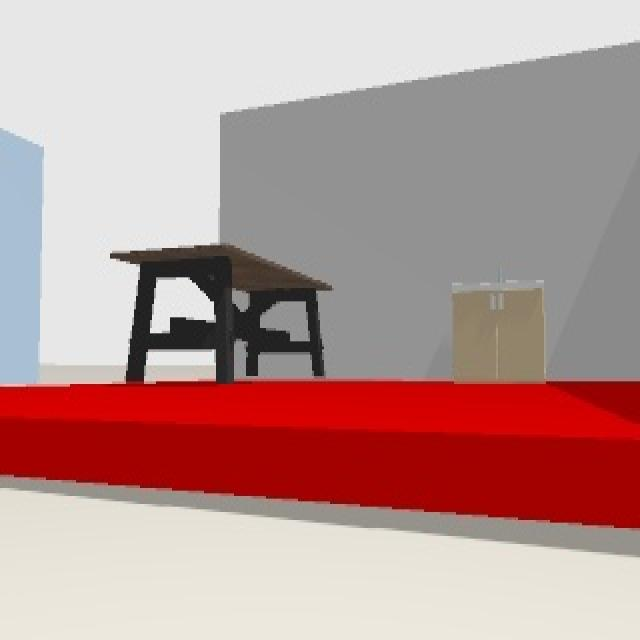dining: (114, 249, 328, 384)
